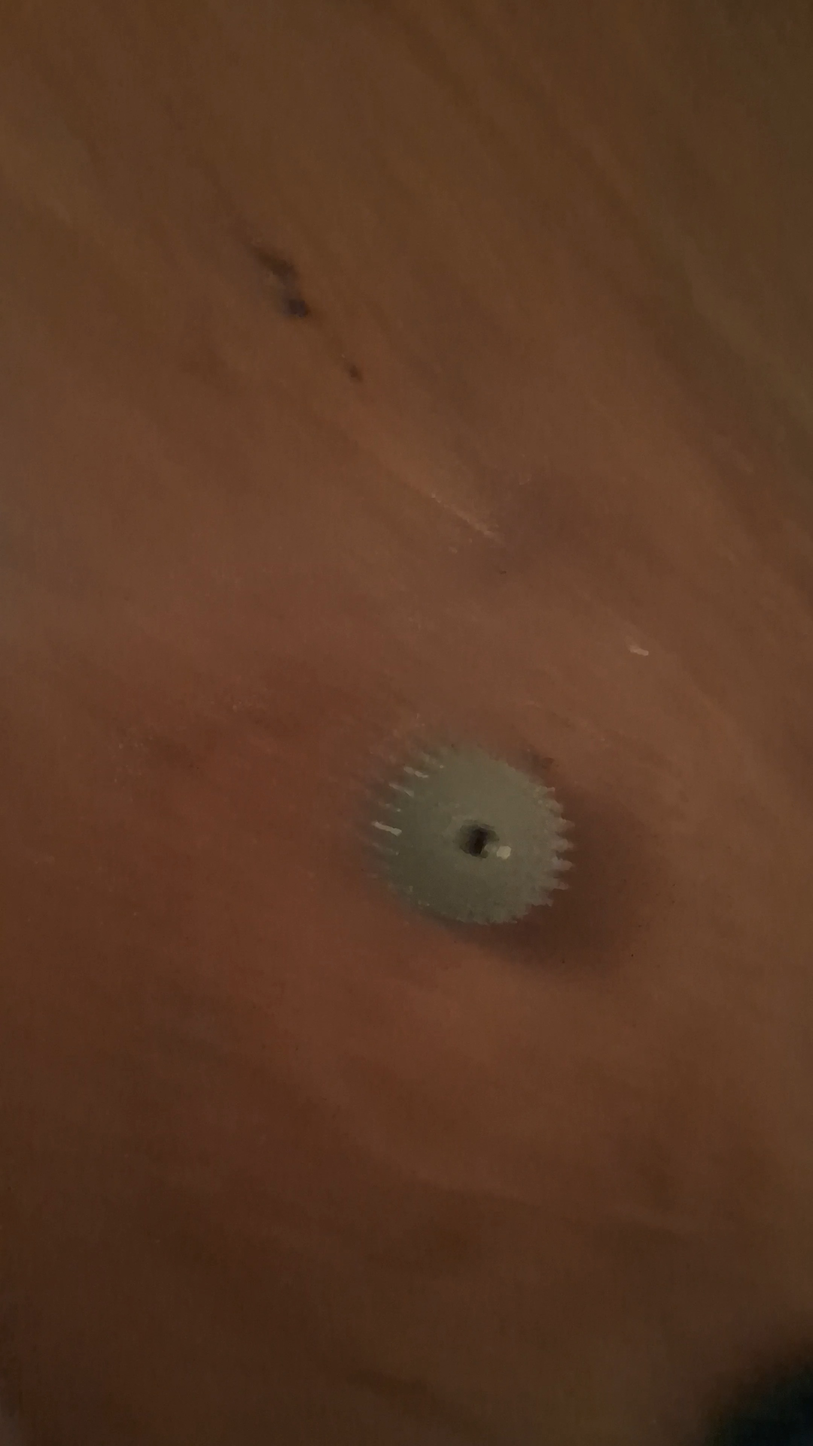spur gear: (372, 747, 570, 924)
